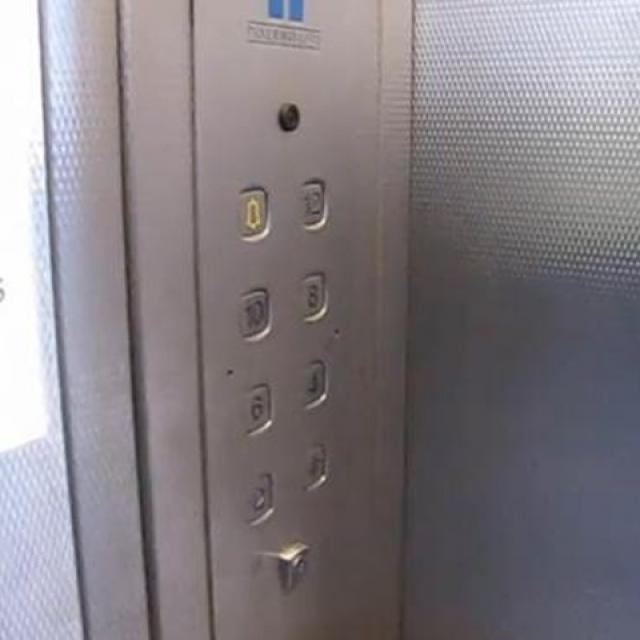10: (238, 286, 274, 342)
12: (299, 178, 328, 230)
4: (300, 358, 327, 410)
6: (240, 383, 273, 435)
8: (296, 272, 329, 321)
alarm: (233, 184, 271, 241)
blur: (242, 470, 274, 526), (299, 441, 328, 492)
keyhole: (276, 540, 309, 592)
